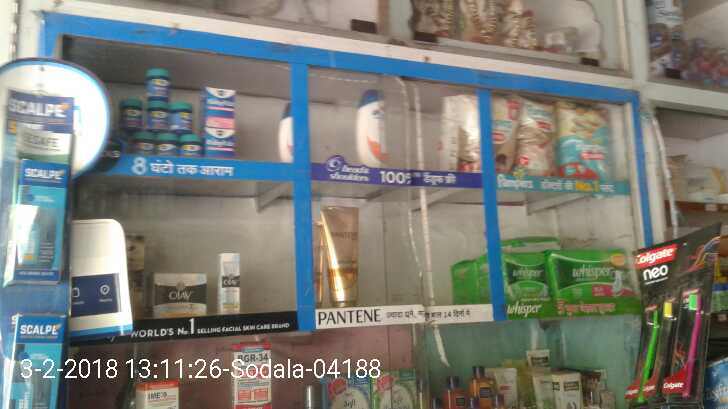vicks: (114, 63, 241, 160)
